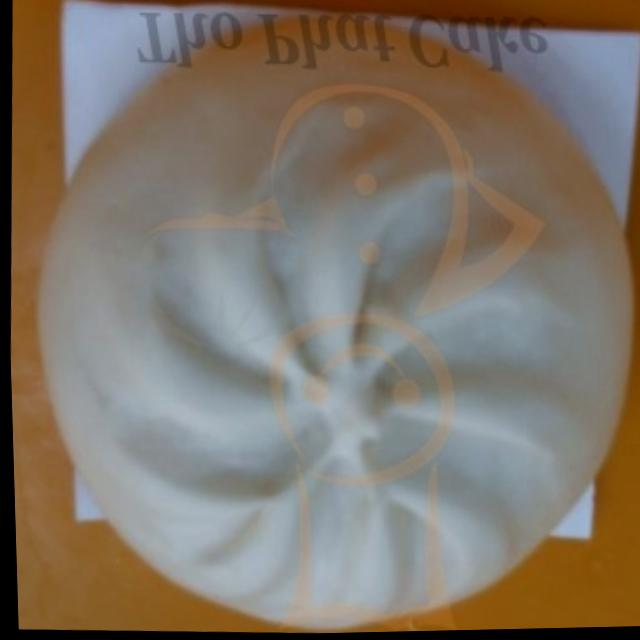带馅早点: (10, 1, 640, 640)
